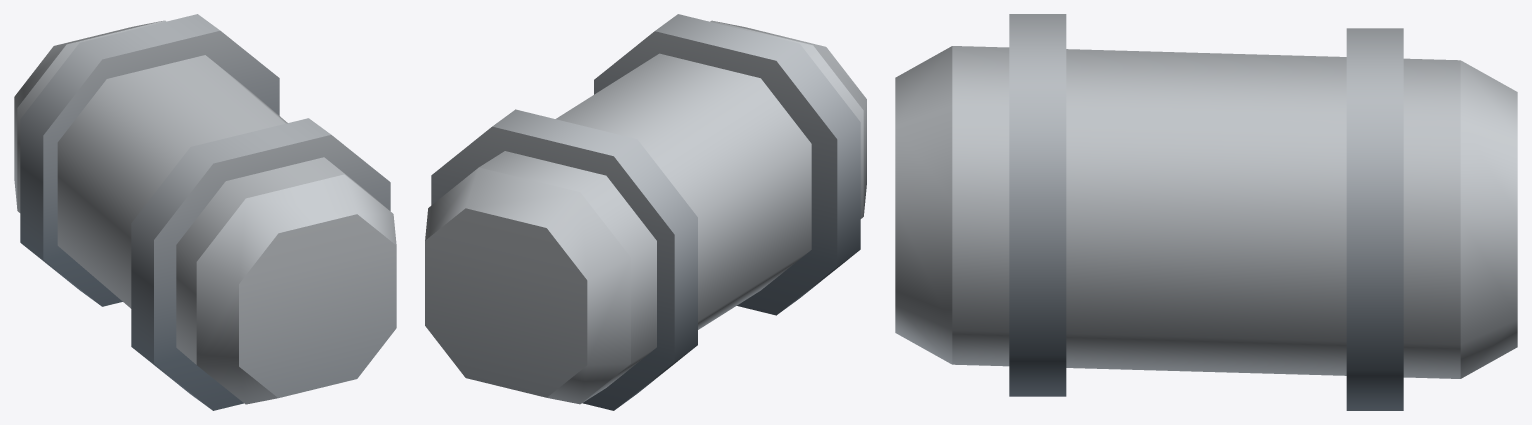
Rendered from container-flat.glb.
3 renders of one model, left to right at view 1: azimuth 30°, elevation 25°; view 2: azimuth 150°, elevation 25°; view 3: azimuth 270°, elevation 25°, orthographic. The views are drawn at different scales.
Visible parts, largest first — view 1: container-flat; view 2: container-flat; view 3: container-flat.
Part boxes in pixels (bbox=[...]): container-flat: bbox=[14, 14, 396, 410]; container-flat: bbox=[425, 14, 866, 410]; container-flat: bbox=[895, 14, 1517, 410].
Bounding box in the file's own units: 0.6596 × 0.6 × 1.09.
